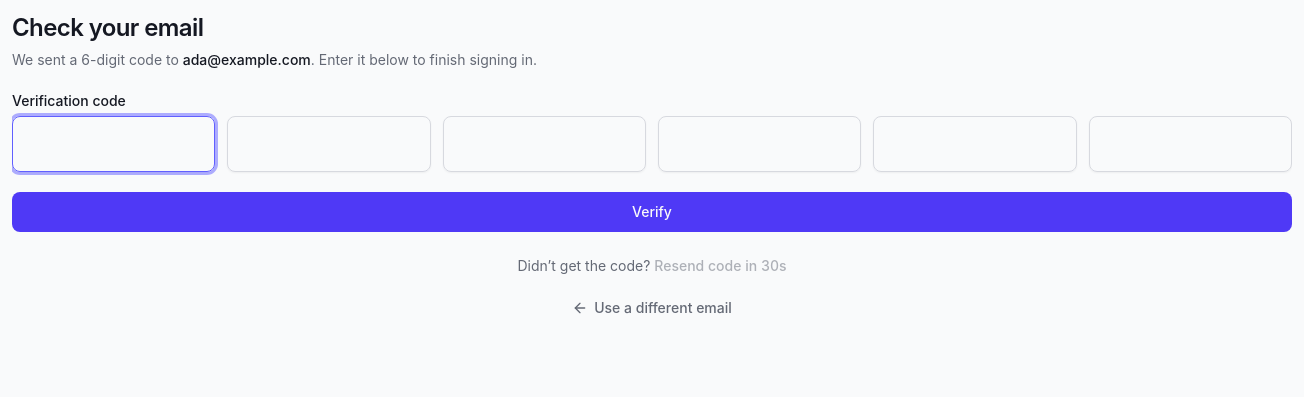
Scenario: OneTimeCodeForm › keeps the code when verification fails unexpectedly
The image size is (1304, 397).
Type keys "123456"
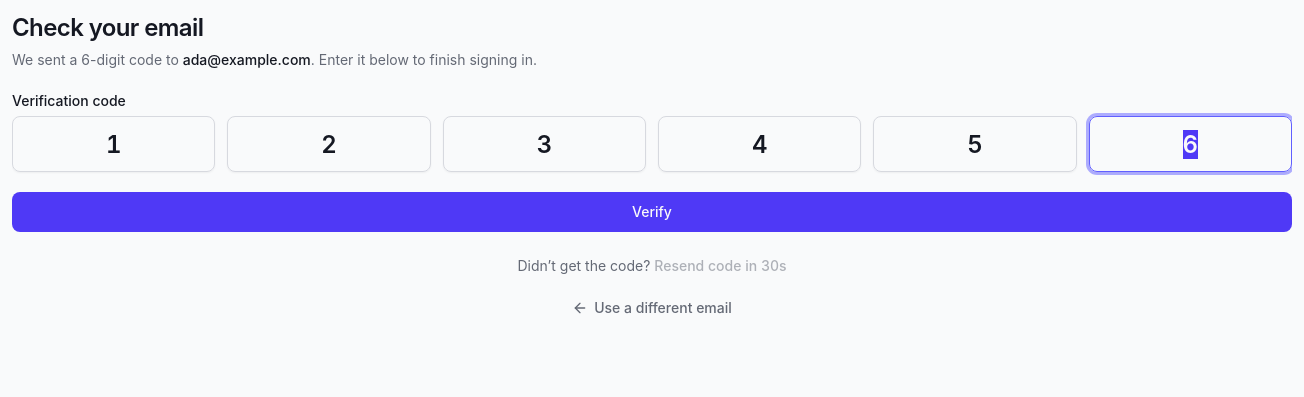
Click the button "Verify". click: (652, 212)
box: top-left (12, 192), bottom-right (1292, 232)
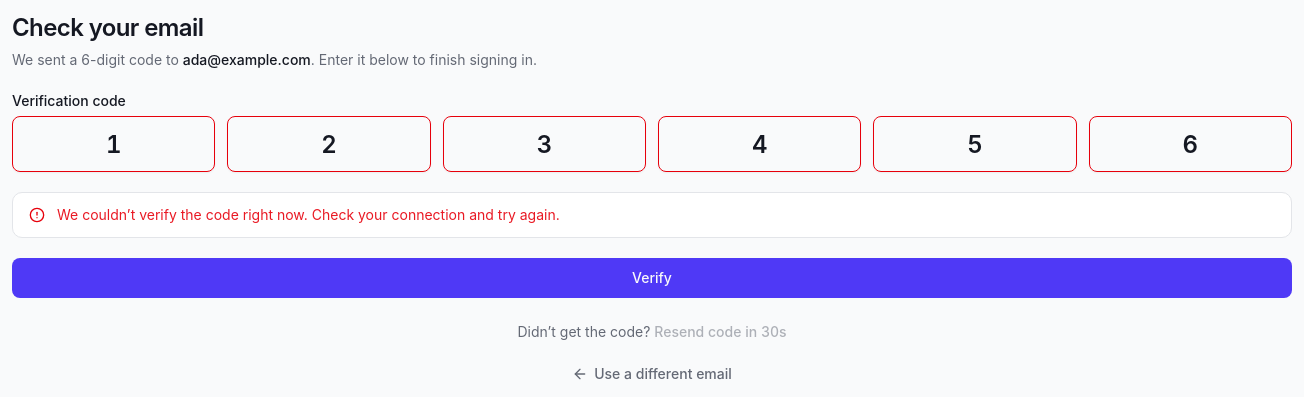
Expected: the field named "Digit 1 of 6" holds "1", top-left (12, 116), bottom-right (215, 172)
Expected: the message reads "We couldn’t verify the code right now. Check your connection and try again.", top-left (57, 206), bottom-right (560, 223)
